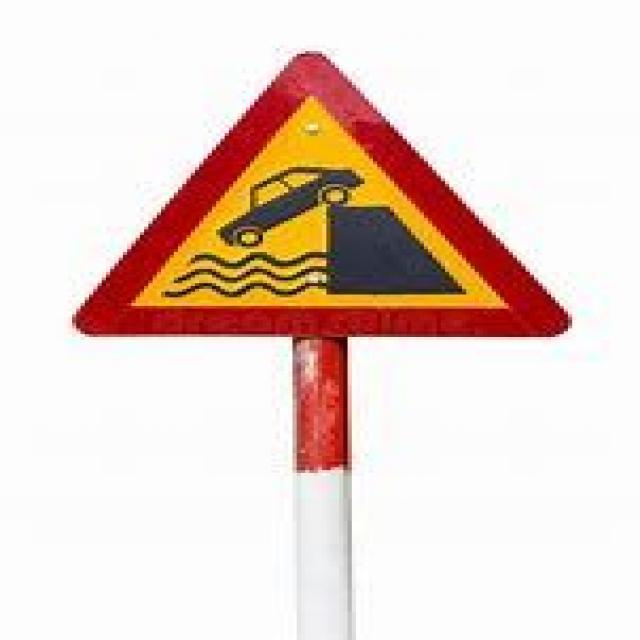QUAY_SIDE_OR_RIVER_BANK: (64, 45, 568, 334)
